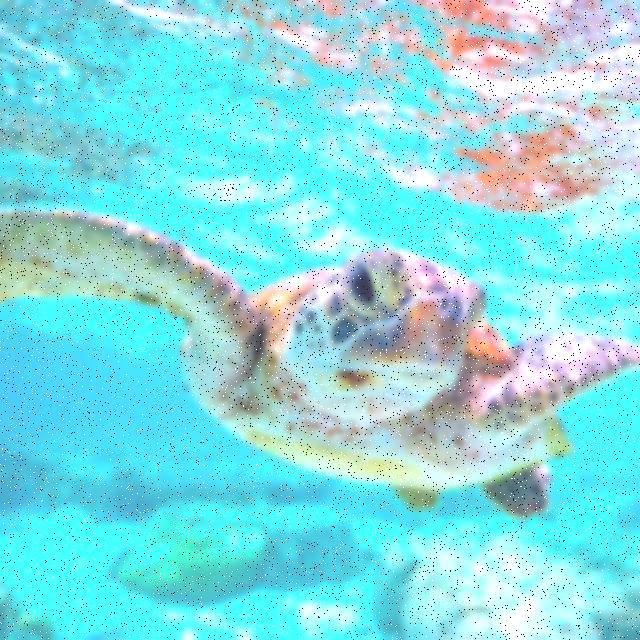tortoise: (0, 205, 626, 535)
